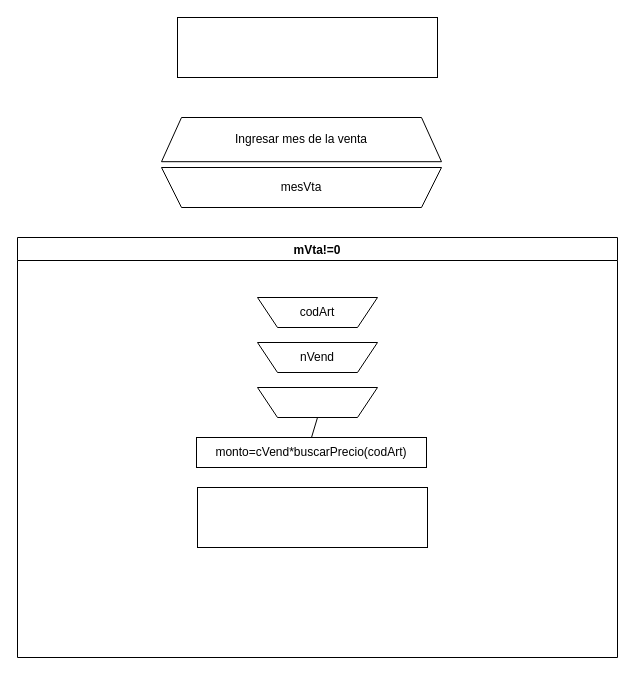
Image size: 635x675. Some labels were removed from this diagram. Each missing label, with the box of its shape:
cVend: (256, 386, 378, 418)
ponerEnCero(vendedores,12,30): (176, 16, 438, 78)
vendedores[mVta-1][nVend-1]=monto: (196, 486, 428, 548)
